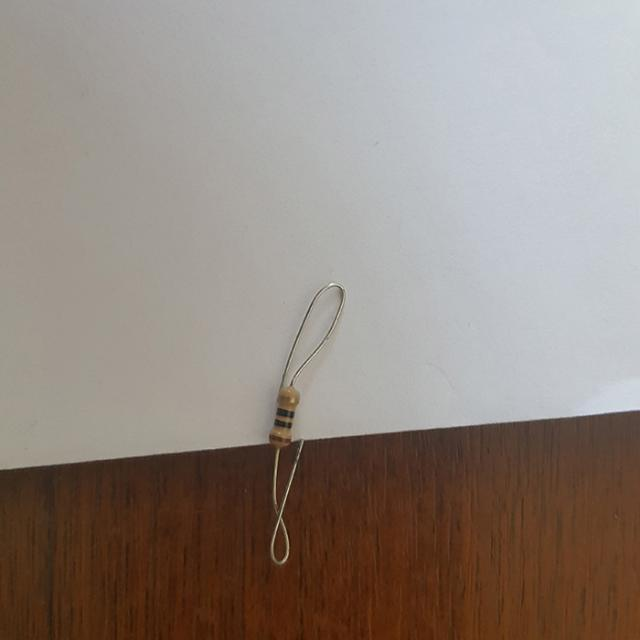black: (273, 421, 291, 428), (276, 409, 293, 416)
brown: (270, 436, 289, 442)
gold: (278, 394, 297, 402)
resistor: (259, 380, 312, 456)
